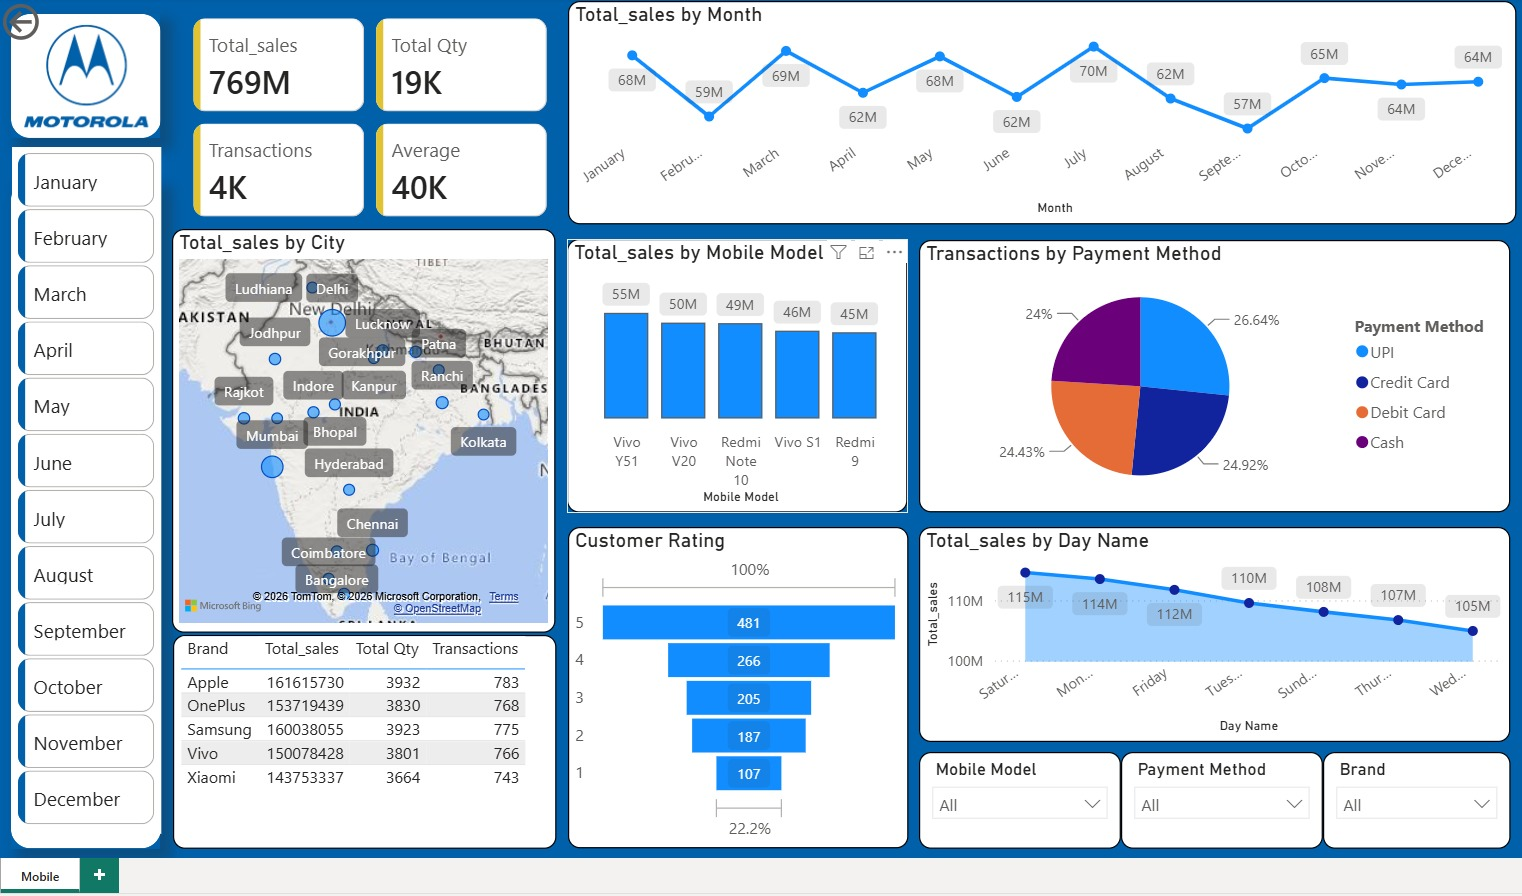

The dashboard page shown, as its layout file describes it:
{"tool":"powerbi","page":{"name":"Page 1","canvas":[1280,720],"ordinal":0},"visuals":[{"type":"shape","box":[12.1,13.3,125.5,103.8],"z":0},{"type":"image","box":[12.1,13.3,125.5,103.8],"z":1000},{"type":"shape","box":[12.1,153.2,125.5,558.6],"z":2000},{"type":"advancedSlicerVisual","fields":{"Values":["Sheet1.DATE.Variation.Date Hierarchy.Month"]},"box":[12.3,124.9,124.9,575],"z":3000},{"type":"cardVisual","fields":{"Data":["Sales_Data.Total_sales","Sales_Data.Total Qty","Sales_Data.Transactions","Sales_Data.Average"]},"box":[147.2,0,330.6,200.3],"z":4000},{"type":"map","fields":{"Category":["Sales_Data.City"],"Size":["Sales_Data.Total_sales"]},"box":[146.8,193.5,321.1,337.6],"z":5000},{"type":"lineChart","fields":{"Category":["Sales_Data.DATE.Variation.Date Hierarchy.Month","Sales_Data.DATE.Variation.Date Hierarchy.Day"],"Y":["Sales_Data.Total_sales"]},"box":[477.8,2.4,793.8,187],"z":6000},{"type":"clusteredColumnChart","fields":{"Y":["Sales_Data.Total_sales"],"Category":["Sales_Data.Mobile Model"]},"box":[477.5,201.7,285.4,229.2],"z":7000},{"type":"pieChart","fields":{"Category":["Sales_Data.Payment Method"],"Y":["Sales_Data.Transactions"]},"box":[772.1,202.7,494.6,228],"z":8000},{"type":"funnel","title":"Customer Rating","fields":{"Category":["Sales_Data.Customer Ratings"],"Y":["CountNonNull(Sales_Data.Customer Ratings)"]},"box":[477.8,442.8,284.7,269],"z":9000},{"type":"areaChart","fields":{"Category":["Sales_Data.Day Name"],"Y":["Sales_Data.Total_sales"]},"box":[772.1,442.8,494.6,179.8],"z":10000},{"type":"tableEx","fields":{"Values":["Sales_Data.Brand","Sales_Data.Total_sales","Sales_Data.Total Qty","Sales_Data.Transactions"]},"box":[147.2,533.2,320.9,178.6],"z":11000},{"type":"actionButton","box":[0,0,100,40],"z":12000},{"type":"slicer","fields":{"Values":["Sales_Data.Mobile Model"]},"box":[772.1,631,168.9,80.8],"z":13000},{"type":"slicer","fields":{"Values":["Sales_Data.Payment Method"]},"box":[941,631,168.9,80.8],"z":14000},{"type":"slicer","fields":{"Values":["Sales_Data.Brand"]},"box":[1109.9,631,156.8,80.8],"z":15000}]}

Visuals, with their boxes in screenshot pixels (x1, y1, x2, y2):
shape: rect(7, 4, 159, 130)
image: rect(7, 4, 159, 130)
shape: rect(7, 174, 159, 853)
advancedSlicerVisual - Sheet1.DATE.Variation.Date Hierarchy.Month: rect(7, 140, 159, 839)
cardVisual - Sales_Data.Total_sales x Sales_Data.Total Qty: rect(171, 0, 573, 232)
map - Sales_Data.City x Sales_Data.Total_sales: rect(171, 223, 561, 634)
lineChart - Sales_Data.DATE.Variation.Date Hierarchy.Month x Sales_Data.DATE.Variation.Date Hierarchy.Day: rect(573, 0, 1521, 218)
clusteredColumnChart - Sales_Data.Total_sales x Sales_Data.Mobile Model: rect(573, 233, 920, 512)
pieChart - Sales_Data.Payment Method x Sales_Data.Transactions: rect(931, 235, 1521, 512)
"Customer Rating" funnel: rect(573, 526, 919, 853)
areaChart - Sales_Data.Day Name x Sales_Data.Total_sales: rect(931, 526, 1521, 745)
tableEx - Sales_Data.Brand x Sales_Data.Total_sales: rect(171, 636, 561, 853)
actionButton: rect(0, 0, 114, 37)
slicer - Sales_Data.Mobile Model: rect(931, 755, 1136, 853)
slicer - Sales_Data.Payment Method: rect(1136, 755, 1341, 853)
slicer - Sales_Data.Brand: rect(1341, 755, 1521, 853)
